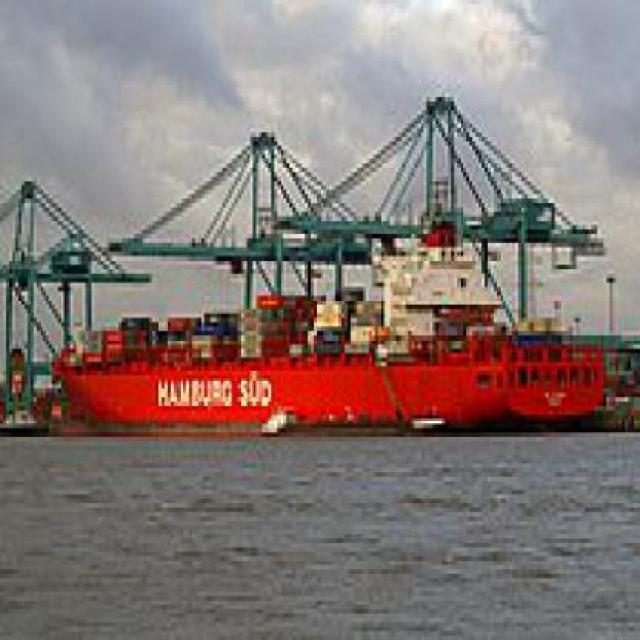container: (50, 230, 617, 438)
